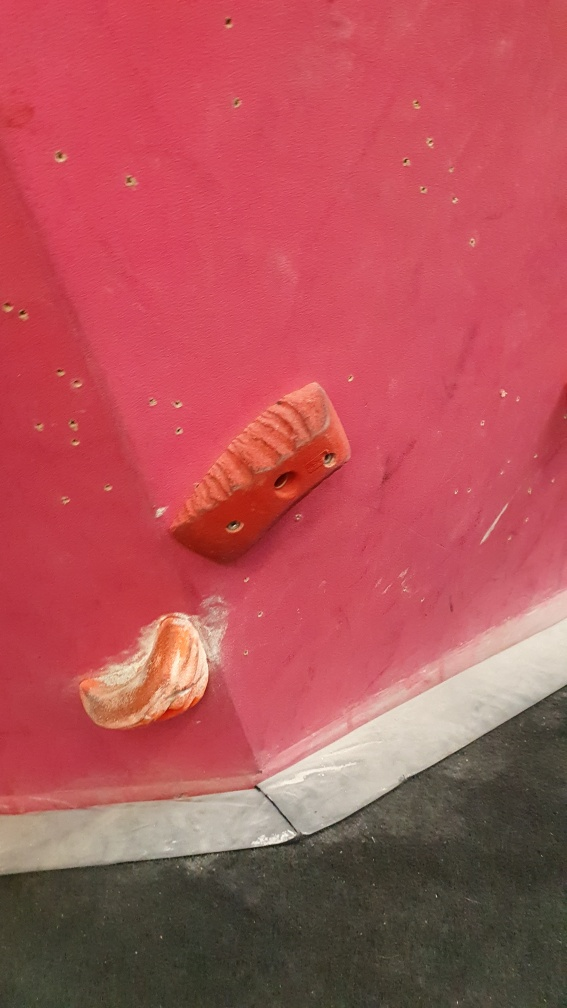Crimp: (170, 376, 353, 572)
Jug: (77, 605, 215, 737)
